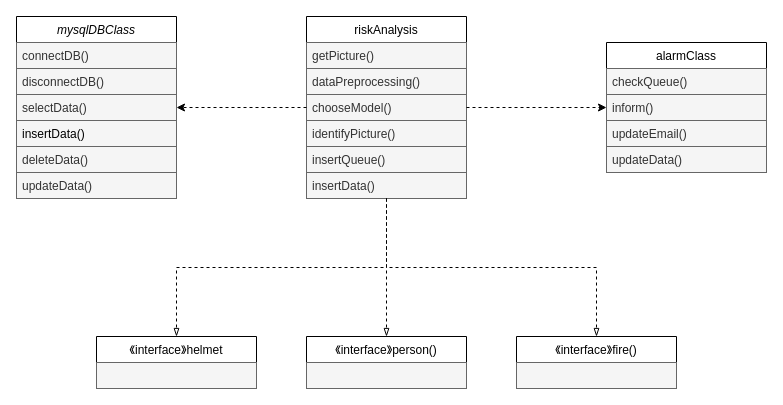
The diagram is 783 pixels wide and 405 high, and some of its shapes have lost their labels. The centre of each missing label's shape, as x and y in pixels:
fire(): point (596, 375)
helmet(): point (176, 375)
person(): point (386, 375)
